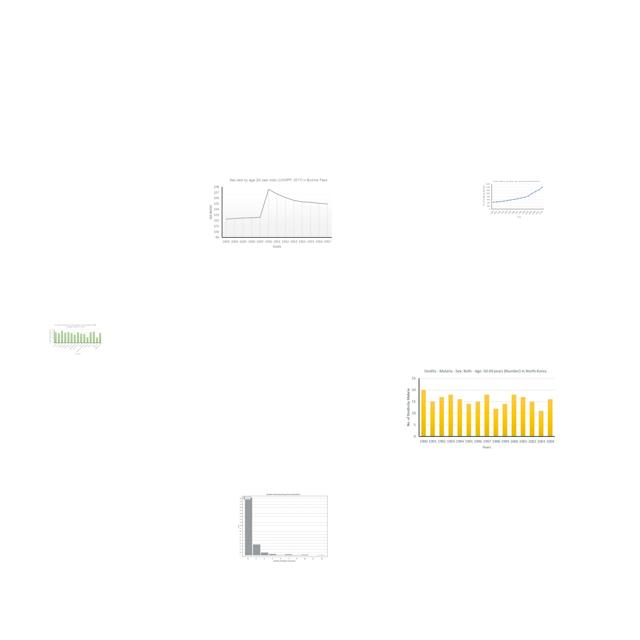Graph: (402, 366, 557, 452), (205, 175, 334, 249), (236, 493, 330, 563), (482, 179, 545, 219), (48, 323, 103, 356)
